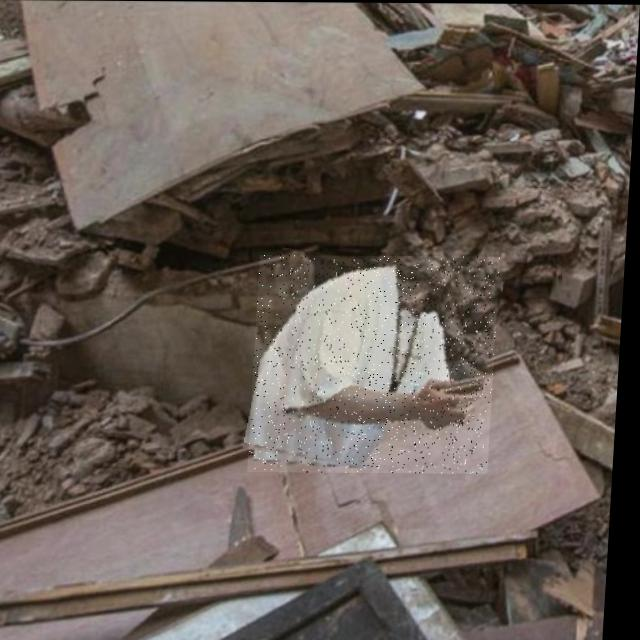Person in Rubble: (253, 255, 503, 473)
